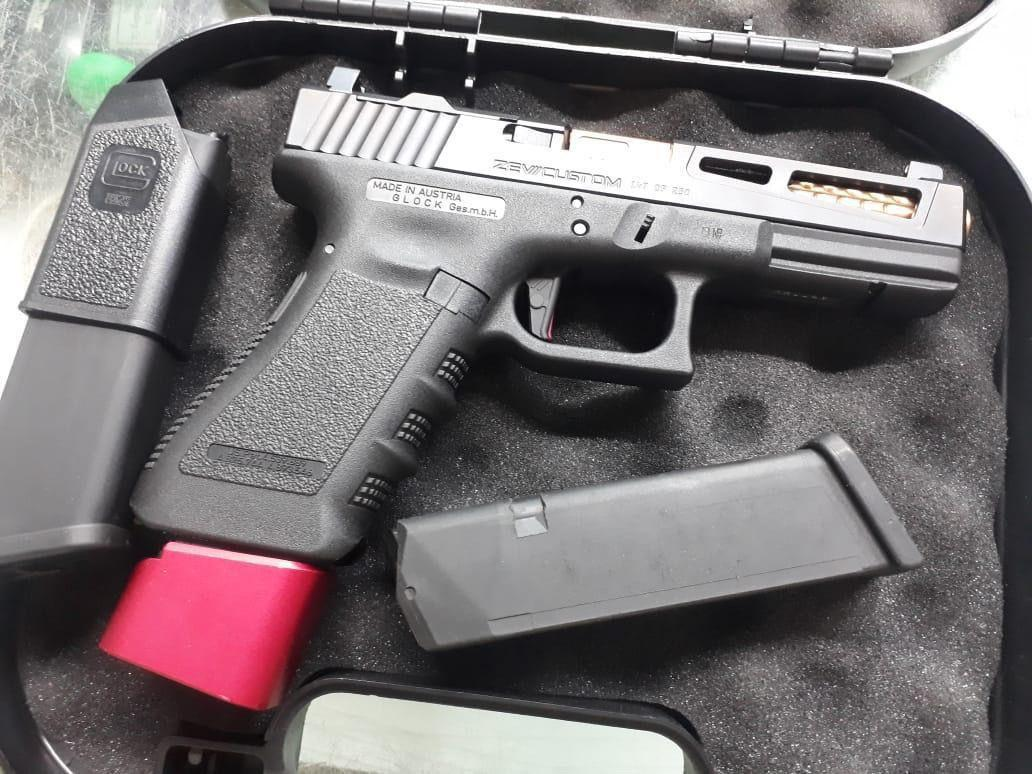weapon: (130, 67, 974, 565)
